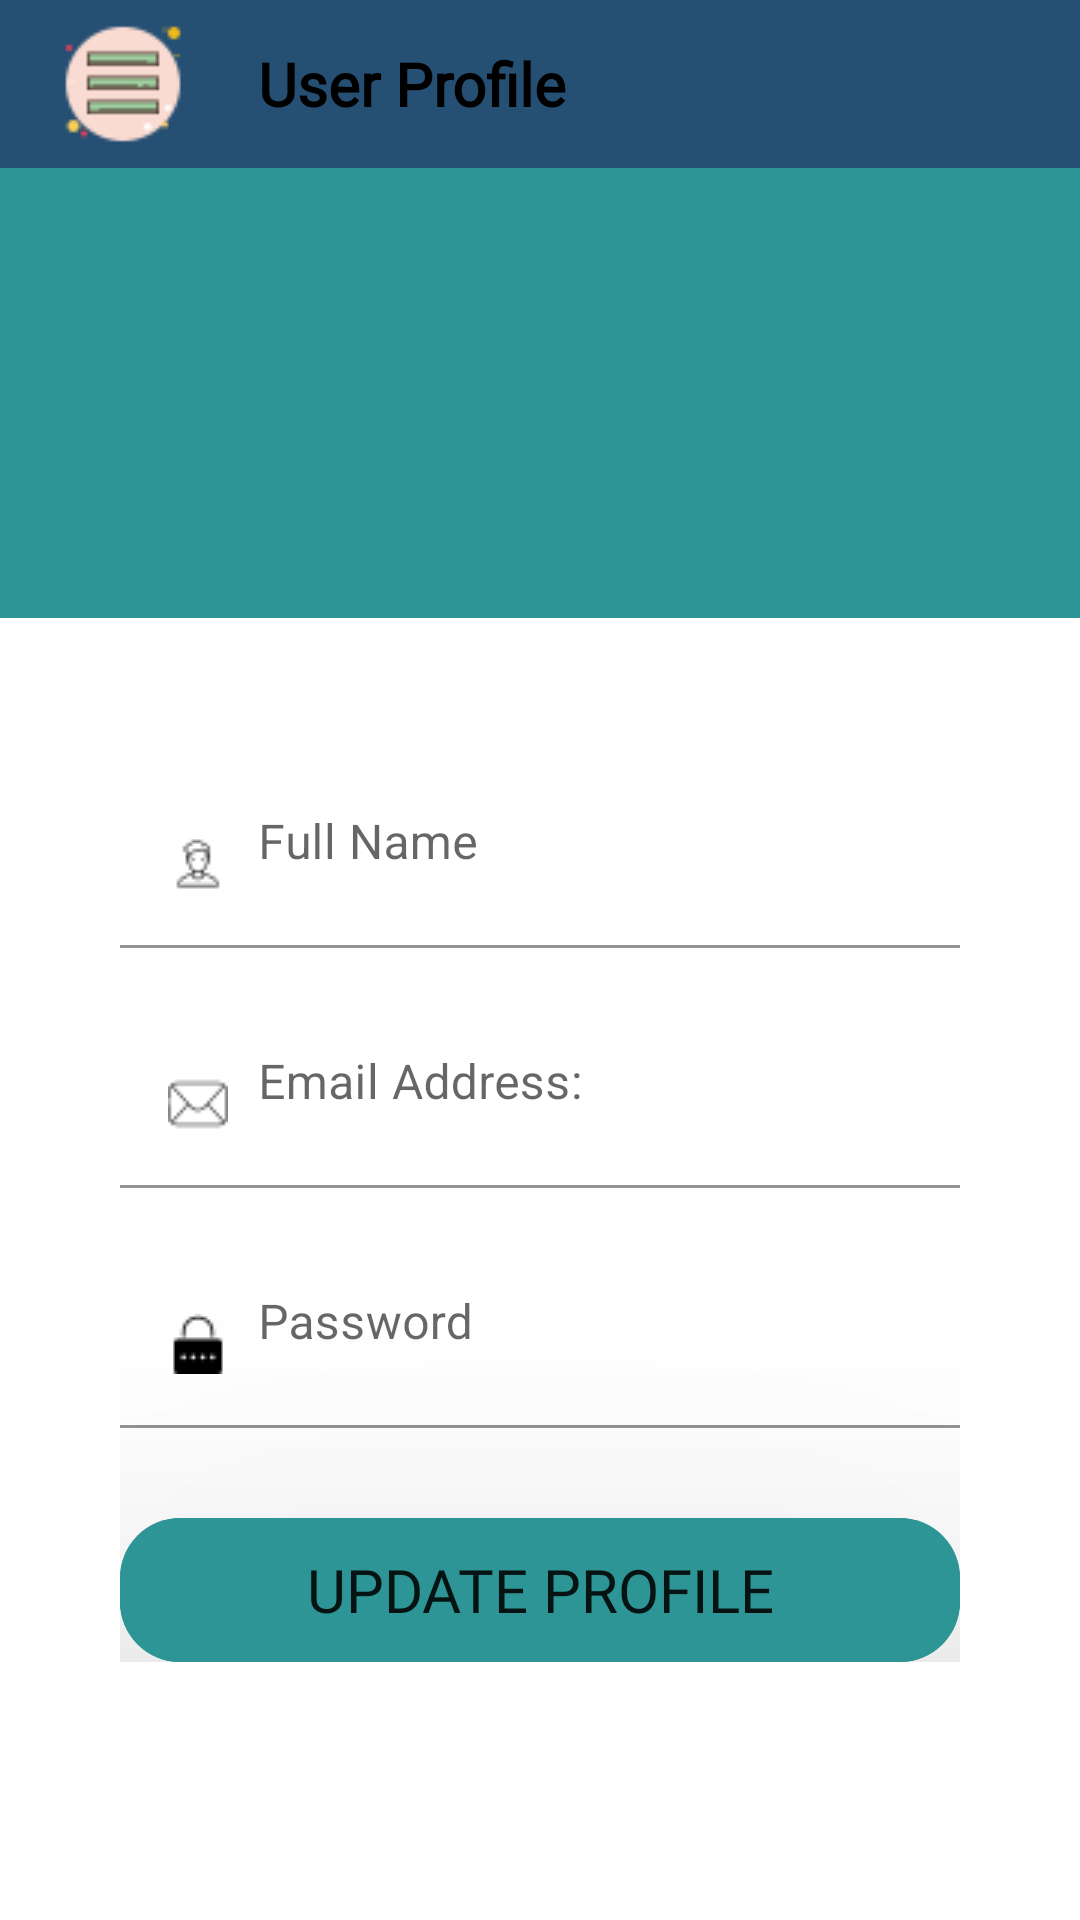

Icons on this 1080px x 1920px Android screen, each with its box as [x1, y1, x2, y2]:
menu: [65, 26, 181, 142]
